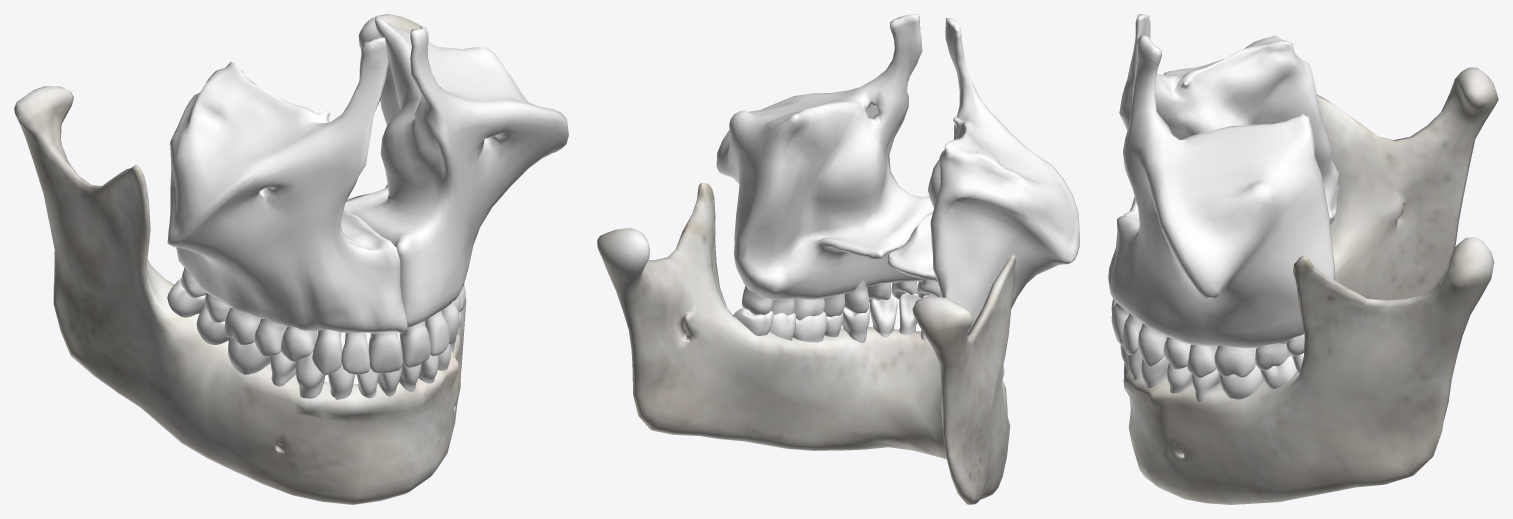
The model's file is jaw.glb.
3 views of the same model, side by side, from view 1: azimuth 30°, elevation 25°; view 2: azimuth 150°, elevation 25°; view 3: azimuth 270°, elevation 25° (orthographic). The views are drawn at different scales.
Parts seen in each view (by area): view 1: Group1, mandible_Group1, polySurface33; view 2: Group1, mandible_Group1, polySurface33; view 3: mandible_Group1, Group1, polySurface33.
Part boxes in pixels (x1,y1,x2,y2): Group1: (167, 17, 568, 333); mandible_Group1: (14, 14, 466, 504); polySurface33: (167, 267, 465, 421); Group1: (716, 14, 1079, 333); mandible_Group1: (597, 183, 1015, 504); polySurface33: (733, 279, 1004, 378); mandible_Group1: (1123, 67, 1498, 504); Group1: (1108, 14, 1339, 348); polySurface33: (1111, 299, 1304, 401).
Size of the model in its own units: 0.1004 by 0.1088 by 0.0853.
Materials: 3 (1 with a texture image).
